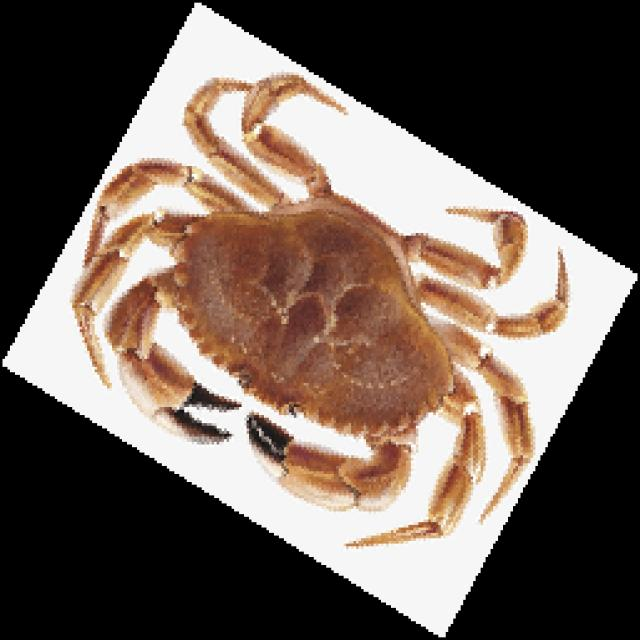Native Jonah crab: (72, 75, 565, 544)
